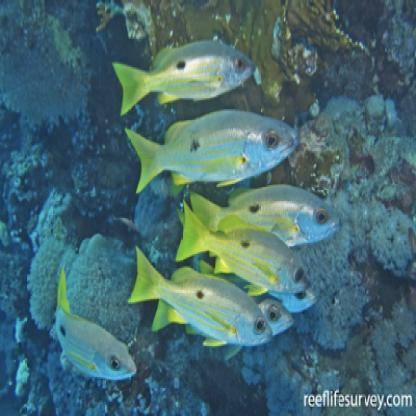Lutjanidae -Snappers-: (128, 244, 280, 347), (123, 110, 296, 193), (174, 201, 309, 293), (106, 37, 260, 116), (44, 266, 143, 379)
